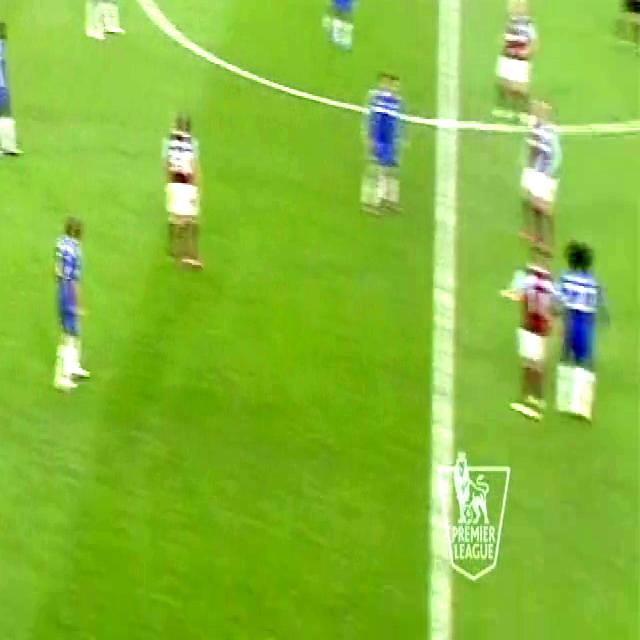referee: (609, 0, 639, 59)
soccer-player: (556, 232, 612, 435), (156, 97, 216, 283), (45, 200, 96, 400), (503, 243, 557, 430), (358, 56, 413, 227), (516, 96, 566, 264), (484, 0, 540, 137), (0, 2, 24, 169), (318, 0, 364, 66), (78, 0, 122, 50)
